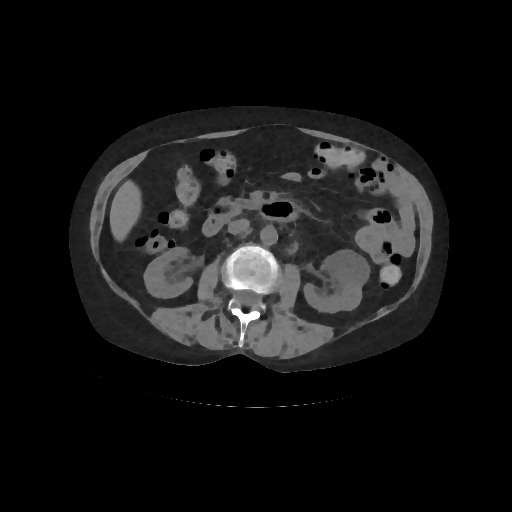Lesion: (318, 246, 372, 297)
